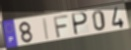0: (91, 9, 106, 32)
4: (112, 6, 125, 29)
8: (18, 21, 35, 45)
F: (52, 14, 70, 39)
I: (43, 17, 51, 41)
P: (71, 12, 89, 37)
